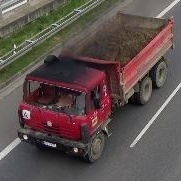truck: (16, 6, 177, 172)
